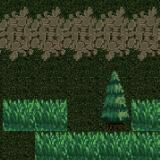Obstacle: (98, 100, 131, 131)
Slow: (35, 131, 160, 160), (3, 99, 67, 131), (131, 100, 160, 131)
